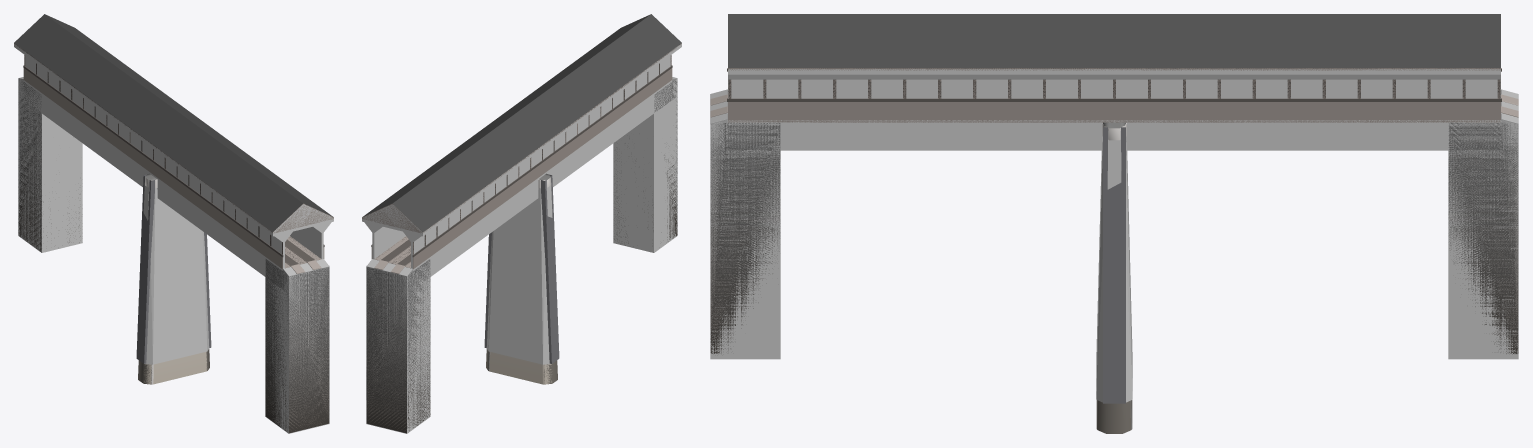
Rendered from eca_bld_bridge_44m.dae.
The picture shows the model from 3 angles, left to right: view 1: azimuth 30°, elevation 25°; view 2: azimuth 150°, elevation 25°; view 3: azimuth 270°, elevation 25°; orthographic projection. The views are drawn at different scales.
Visible parts, largest first — view 1: eca_bld_bridge_44m_a250, Colmesh-1, eca_bld_bridge_44m_a1500, eca_bld_bridge_44m_a20; view 2: Colmesh-1, eca_bld_bridge_44m_a250, eca_bld_bridge_44m_a1500, eca_bld_bridge_44m_a20; view 3: eca_bld_bridge_44m_a250, Colmesh-1, eca_bld_bridge_44m_a1500, eca_bld_bridge_44m_a20.
Boxes of the visible parts, box(x1,y1,x2,y2) form: eca_bld_bridge_44m_a250: box(14, 14, 333, 433); Colmesh-1: box(14, 44, 333, 433); eca_bld_bridge_44m_a1500: box(14, 43, 333, 430); eca_bld_bridge_44m_a20: box(23, 68, 333, 363); Colmesh-1: box(362, 43, 681, 433); eca_bld_bridge_44m_a250: box(362, 14, 681, 433); eca_bld_bridge_44m_a1500: box(362, 43, 681, 431); eca_bld_bridge_44m_a20: box(363, 68, 672, 399); eca_bld_bridge_44m_a250: box(710, 14, 1518, 433); Colmesh-1: box(710, 69, 1518, 402); eca_bld_bridge_44m_a1500: box(710, 68, 1518, 350); eca_bld_bridge_44m_a20: box(728, 102, 1500, 403).
Size of the model in its own units: 6.62 by 46 by 24.84.
